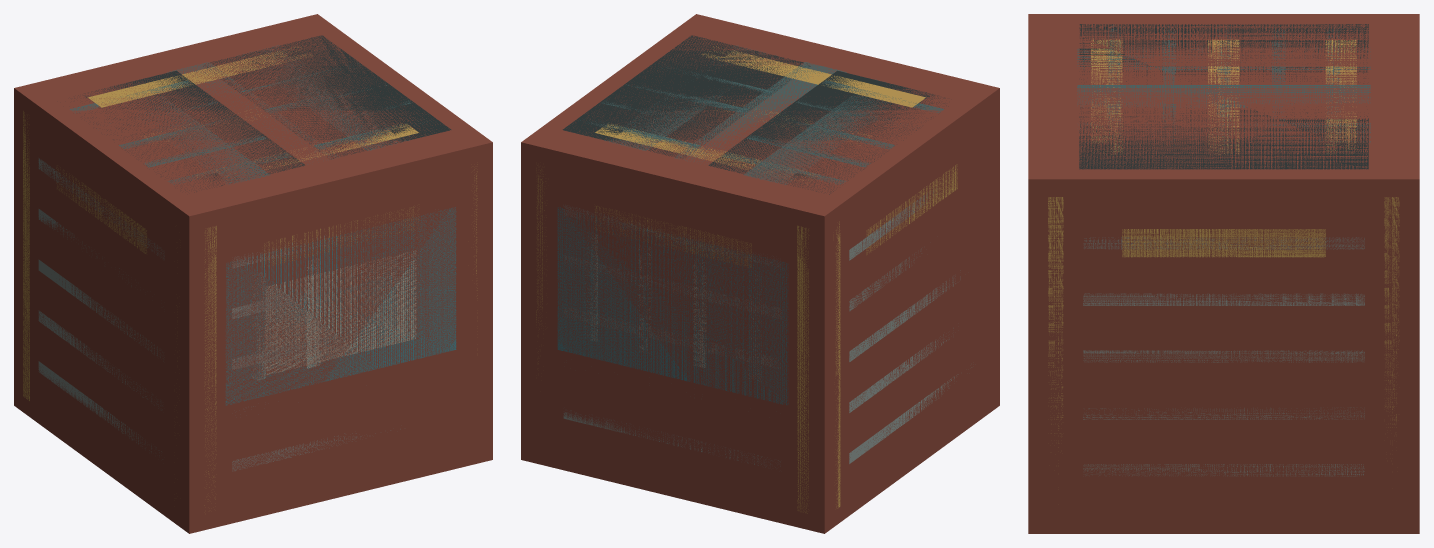
The model's file is Rainline_Dressing_v2.glb.
3 renders of one model, left to right at view 1: azimuth 30°, elevation 25°; view 2: azimuth 150°, elevation 25°; view 3: azimuth 270°, elevation 25°, orthographic. The views are drawn at different scales.
Parts seen in each view (by area): view 1: service_unit__surface, roof_machine__surface, ticket_panel__surface, power_unit__surface; view 2: service_unit__surface, ticket_panel__surface, roof_machine__surface, power_unit__surface; view 3: service_unit__surface, roof_machine__surface, power_unit__surface.
Boxes of the visible parts, bbox=[...] form: service_unit__surface: bbox=[14, 14, 492, 533]; roof_machine__surface: bbox=[70, 35, 451, 348]; ticket_panel__surface: bbox=[225, 207, 456, 405]; power_unit__surface: bbox=[56, 46, 418, 266]; service_unit__surface: bbox=[521, 14, 999, 533]; ticket_panel__surface: bbox=[557, 207, 788, 404]; roof_machine__surface: bbox=[562, 35, 948, 194]; power_unit__surface: bbox=[594, 46, 957, 267]; service_unit__surface: bbox=[1028, 14, 1419, 533]; roof_machine__surface: bbox=[1079, 24, 1368, 169]; power_unit__surface: bbox=[1091, 38, 1356, 257].
Bounding box in the file's own units: 1 × 1 × 1.
